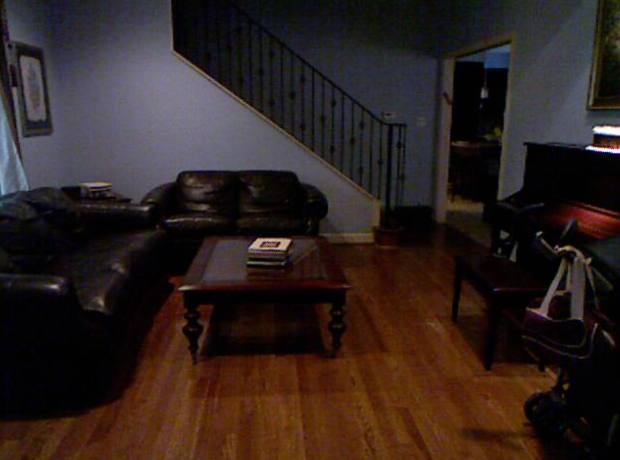couch: (0, 186, 111, 411), (143, 170, 322, 233)
table: (189, 238, 345, 347)
